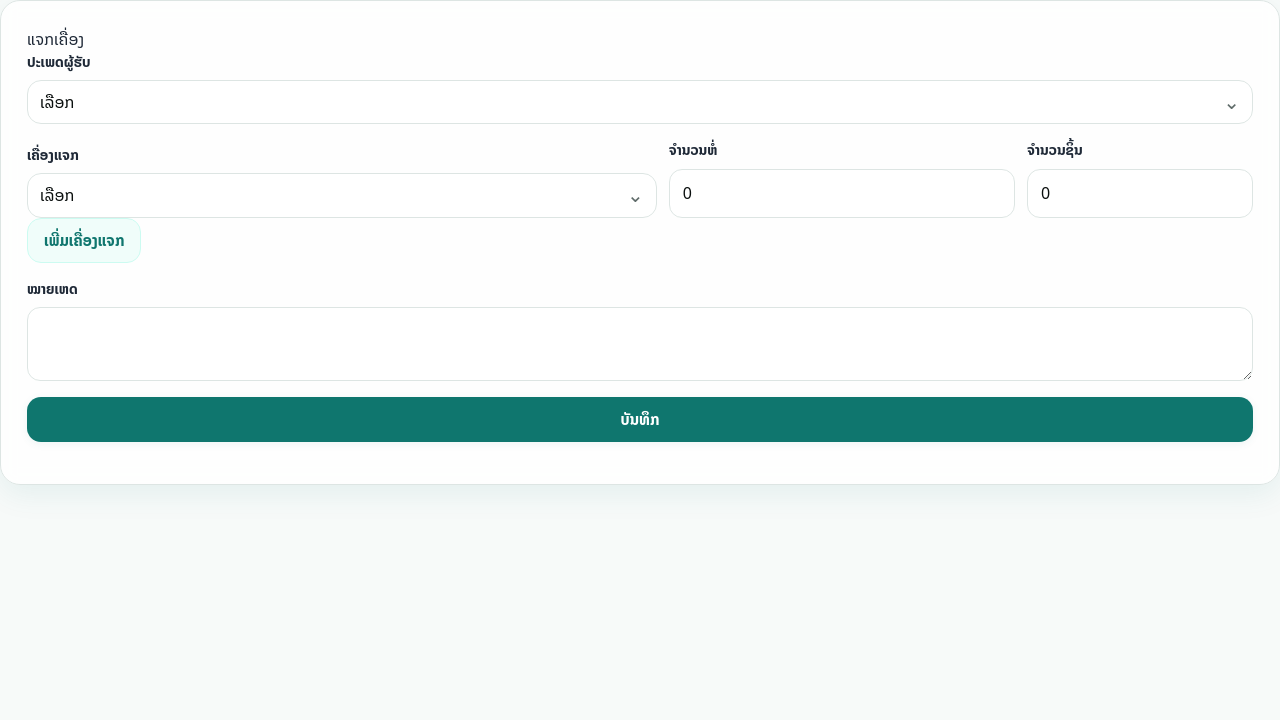
Scenario: GiftDistributionForm › keeps editing safe when a selected quantity is cleared and reports it as invalid
Click the dropdown named "ເຄື່ອງແຈກ": click(57, 195) [27,173,657,218]
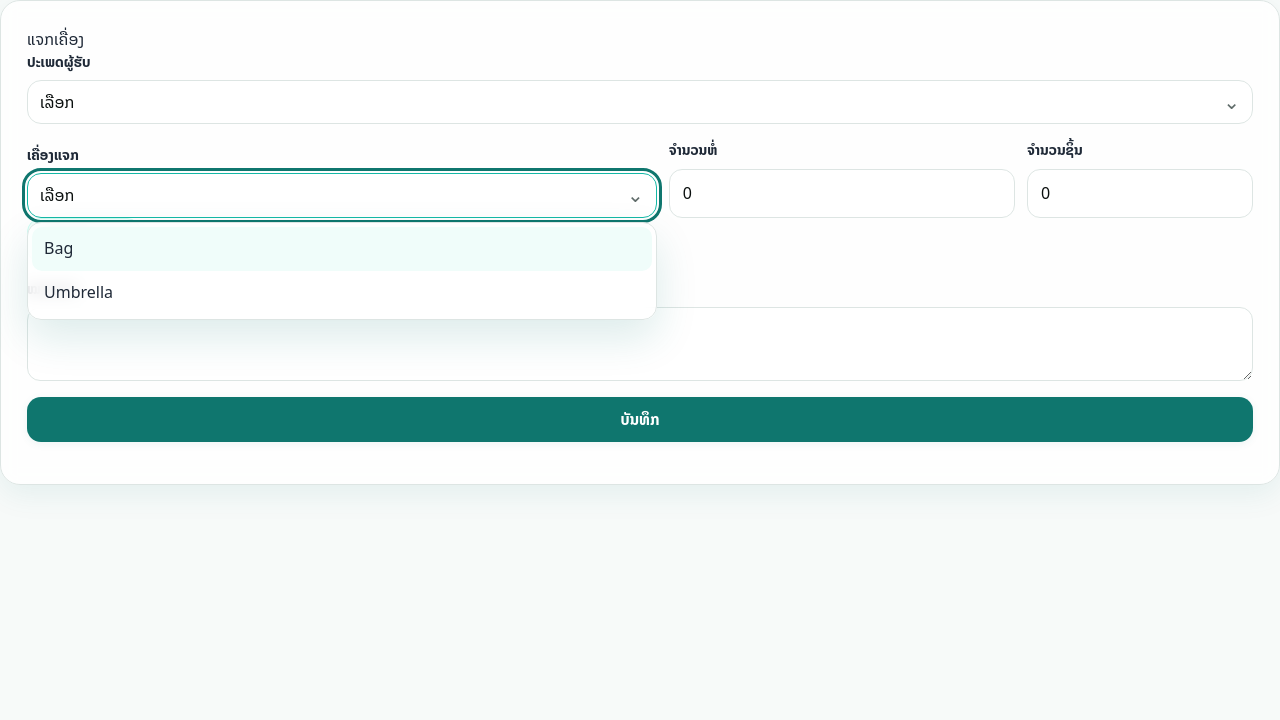
Click the option "Umbrella": click(79, 292) [32,271,652,315]
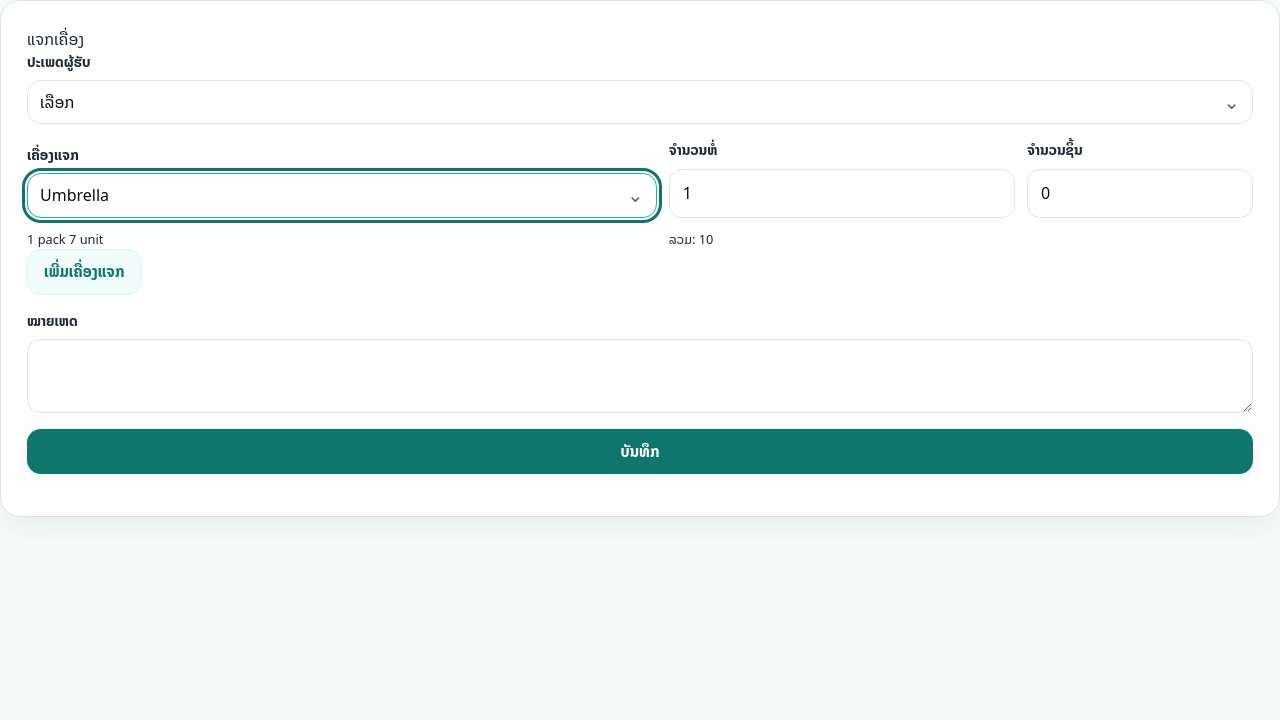
Clear the number field labelled "ຈຳນວນຫໍ່": (842, 193) [669,169,1015,218]
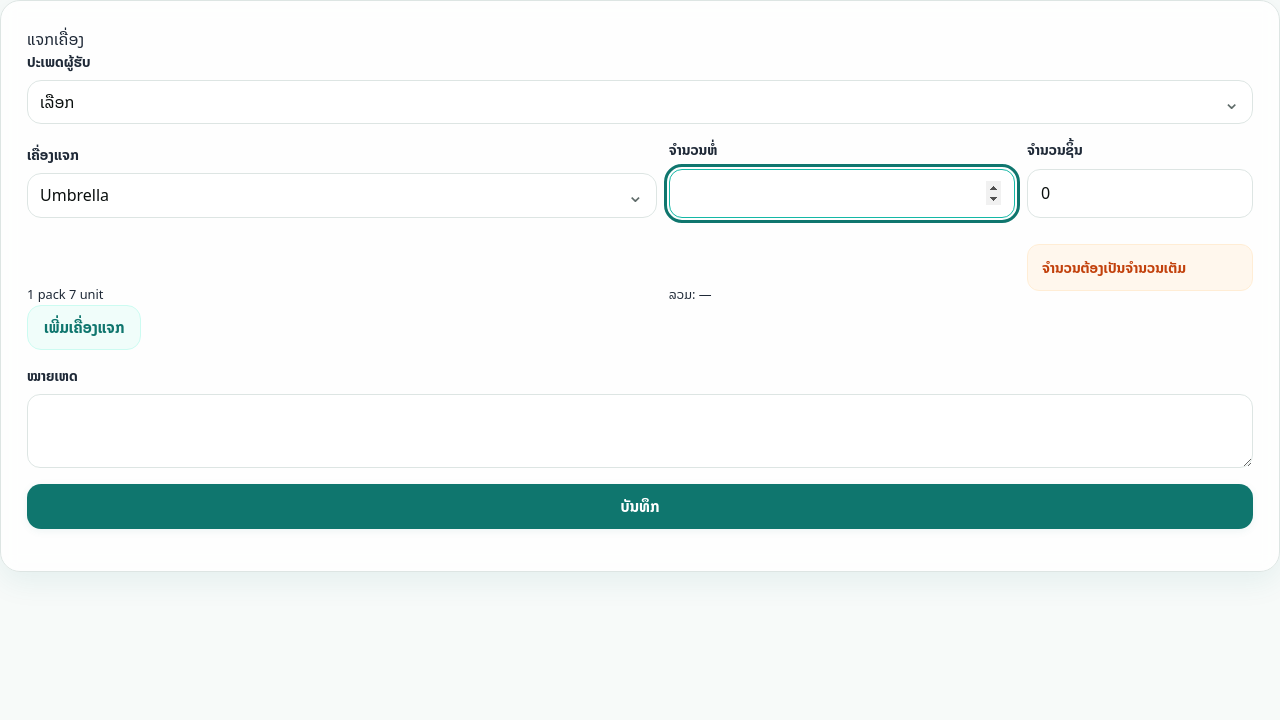
Now the text "ລວມ: —" is shown, box [669,284,712,305]
Now the text "ຈຳນວນຕ້ອງເປັນຈຳນວນເຕັມ" is shown, box [1027,244,1253,291]
Click the button "ບັນທຶກ": click(640, 506) [27,484,1253,529]
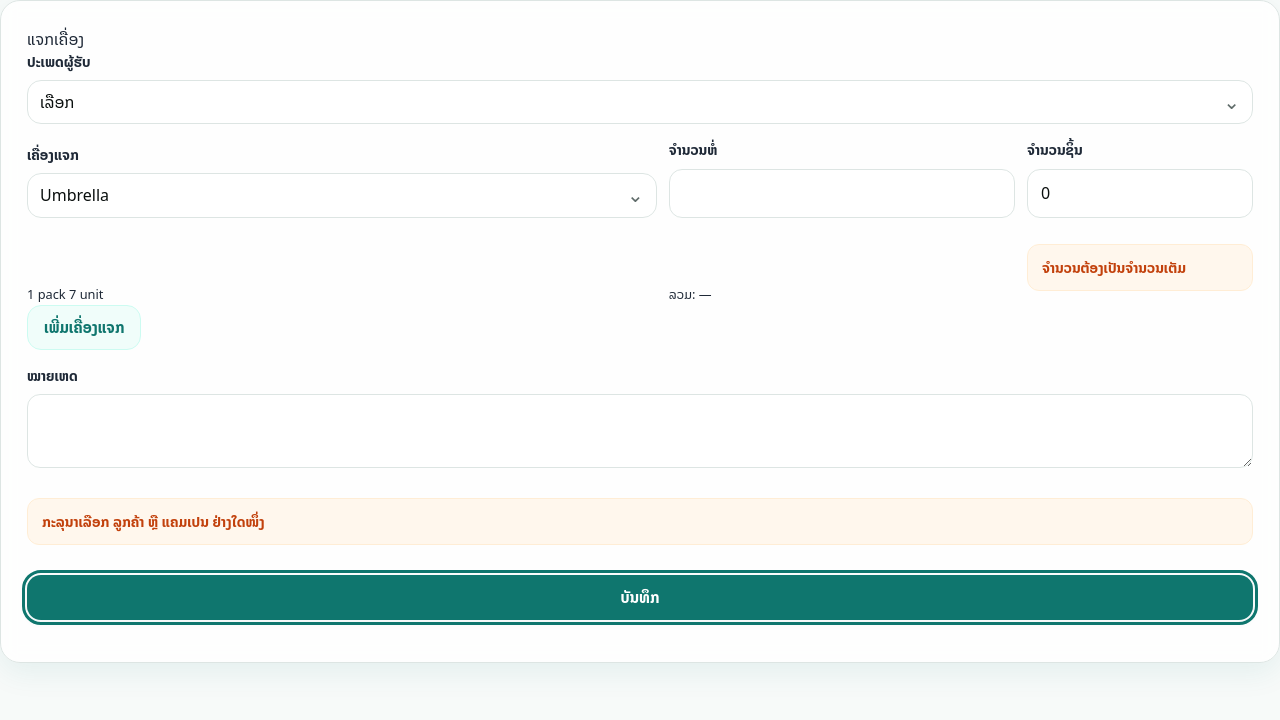
Now the message shows "ລູກຄ້າ ຫຼື ແຄມເປນ", box [42,510,264,533]
